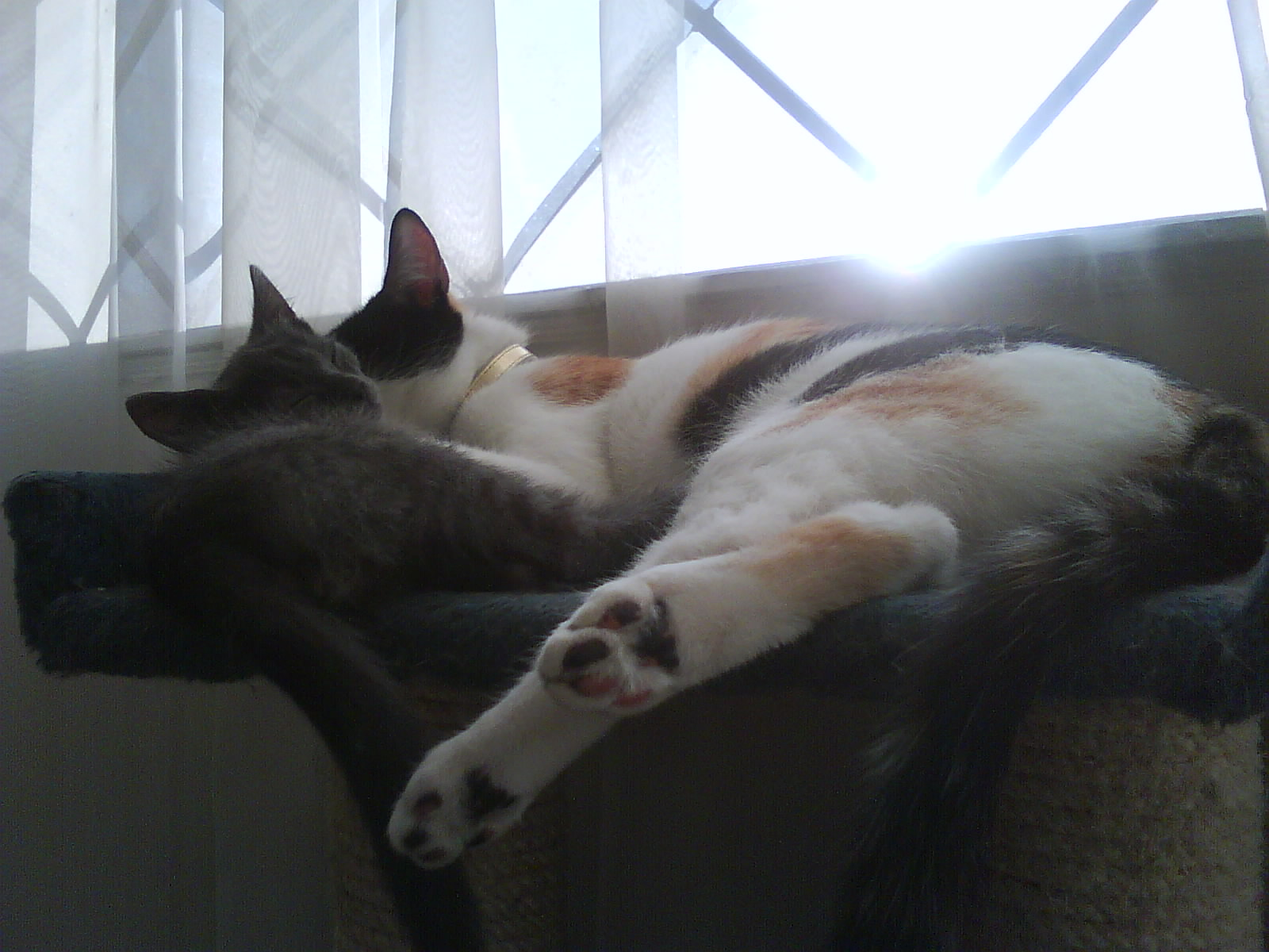cat: (328, 206, 1268, 951), (0, 255, 680, 951)
